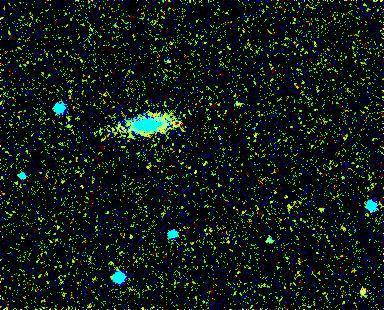star: (348, 277, 378, 307)
